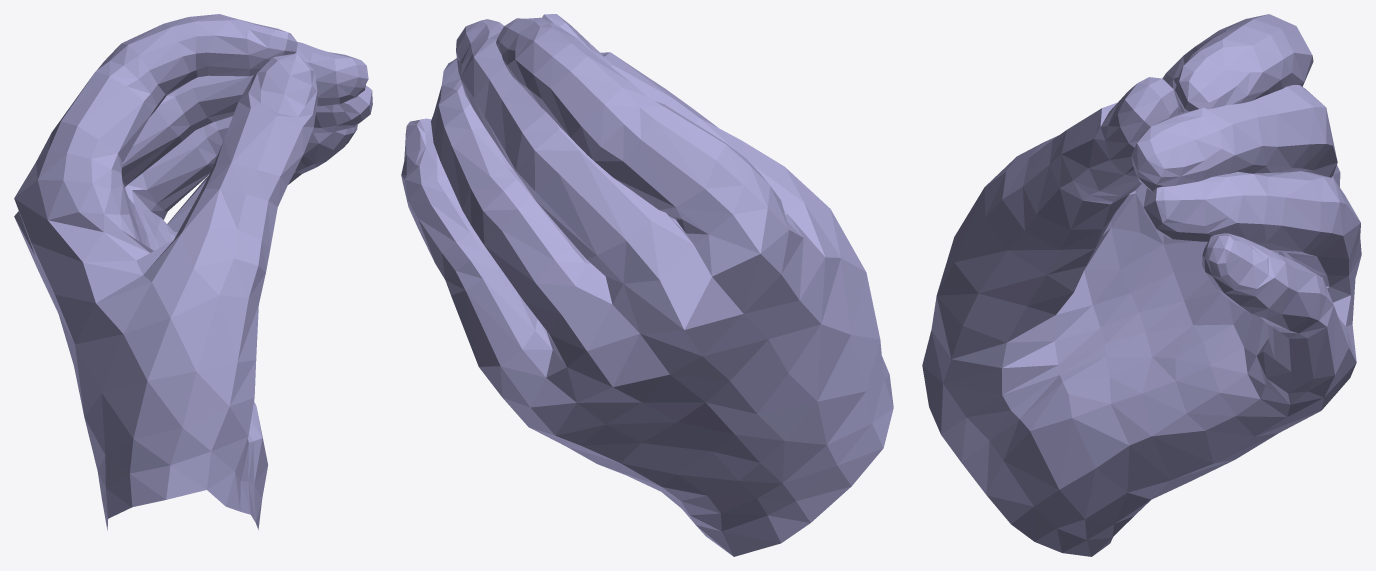
The model's file is frame_0023_source_000023_hand.glb.
3 views of the same model, side by side, from view 1: azimuth 30°, elevation 25°; view 2: azimuth 150°, elevation 25°; view 3: azimuth 270°, elevation 25° (orthographic). The views are drawn at different scales.
Visible parts, largest first — view 1: world; view 2: world; view 3: world.
Part boxes in pixels (left/top/right/bottom): world: left=14, top=14, right=372, bottom=530; world: left=401, top=14, right=893, bottom=556; world: left=922, top=14, right=1361, bottom=556.
Size of the model in its own units: 0.1012 by 0.1363 by 0.095.
